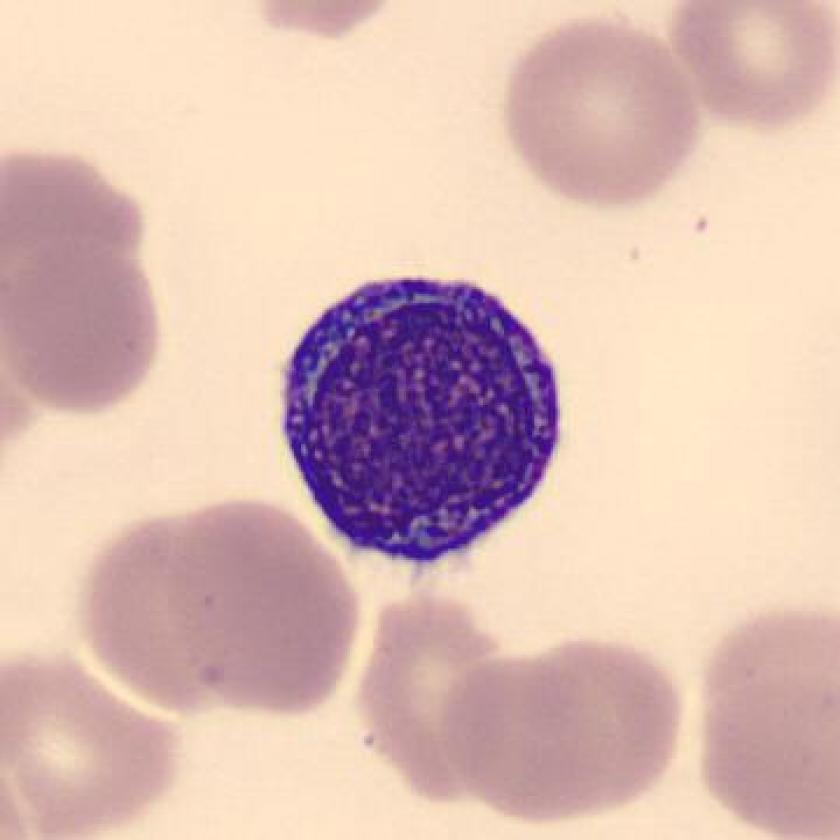monocyte: (258, 260, 589, 584)
